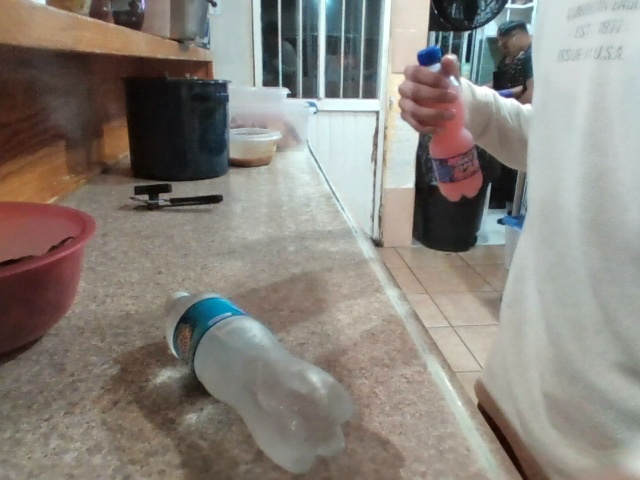botella: (156, 265, 407, 475), (375, 45, 540, 216)
